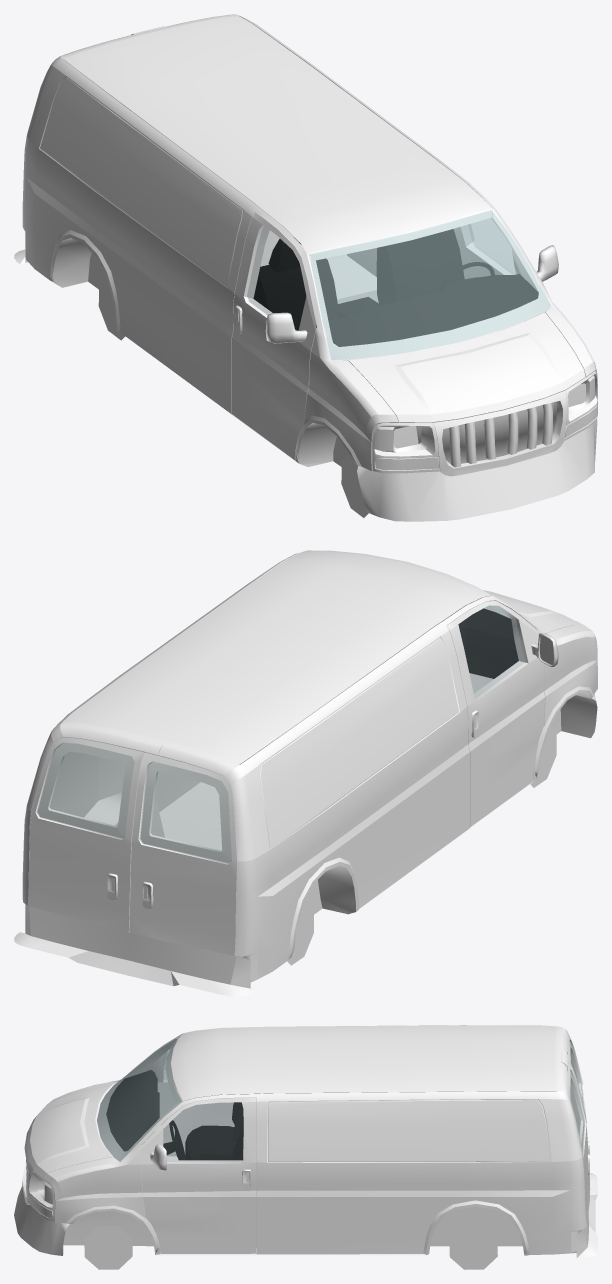
Rendered from Van_Car_01.fbx.
The picture shows the model from 3 angles, top to bottom: view 1: azimuth 30°, elevation 25°; view 2: azimuth 150°, elevation 25°; view 3: azimuth 270°, elevation 25°; orthographic projection. The views are drawn at different scales.
Parts seen in each view (by area): view 1: VAN_Base, VAN_Door_02, VAN_1_Hood, VAN_Door_01; view 2: VAN_Base, VAN_Trunk, VAN_Door_02, VAN_1_Hood; view 3: VAN_Base, VAN_Door_01, VAN_1_Hood, VAN_Door_02, VAN_Trunk.
Part boxes in pixels (x1,y1,x2,y2): VAN_Base: (14, 14, 597, 521); VAN_Door_02: (232, 212, 316, 459); VAN_1_Hood: (348, 312, 585, 422); VAN_Door_01: (453, 224, 558, 281); VAN_Base: (14, 550, 597, 996); VAN_Trunk: (28, 737, 237, 955); VAN_Door_02: (446, 601, 558, 827); VAN_1_Hood: (483, 590, 583, 633); VAN_Base: (14, 1025, 597, 1269); VAN_Door_01: (141, 1097, 256, 1253); VAN_1_Hood: (26, 1085, 113, 1177); VAN_Door_02: (146, 1050, 234, 1156); VAN_Trunk: (567, 1035, 590, 1226).
Size of the model in its own units: 236 by 189 by 549.
